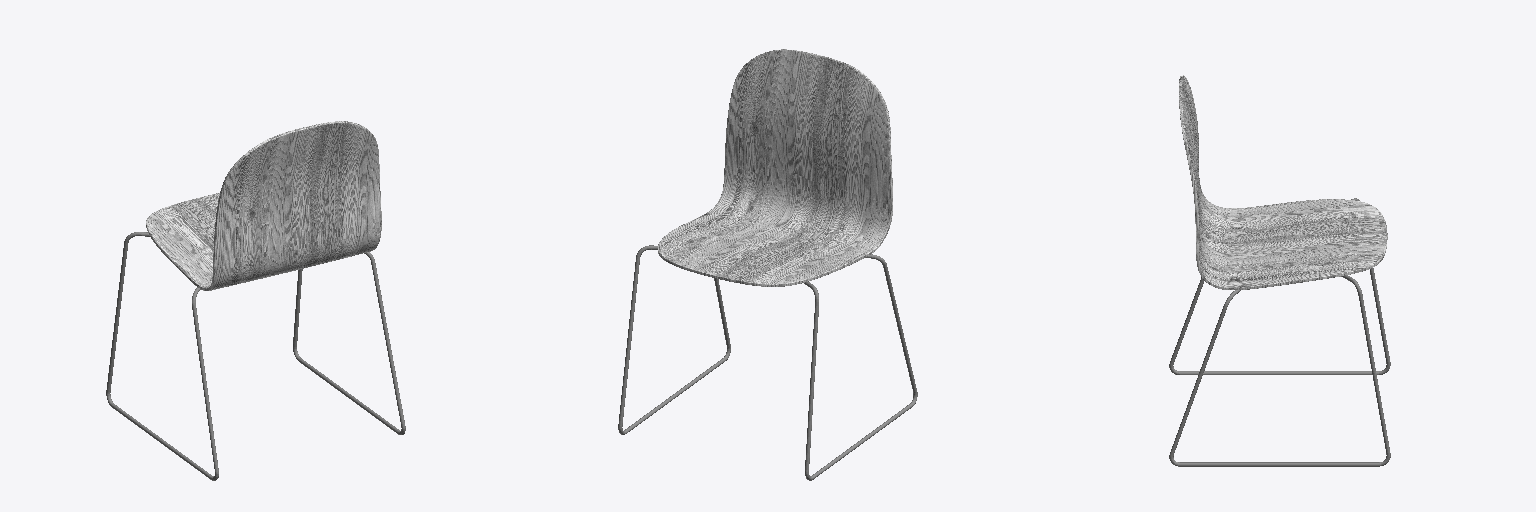
The picture shows the model from 3 angles: view 1: azimuth 30°, elevation 25°; view 2: azimuth 150°, elevation 25°; view 3: azimuth 270°, elevation 25°; orthographic projection.
Parts seen in each view (by area): view 1: Obj3d66_478477_3_156, Obj3d66_478477_4_454; view 2: Obj3d66_478477_3_156, Obj3d66_478477_4_454; view 3: Obj3d66_478477_3_156, Obj3d66_478477_4_454.
Part boxes in pixels (left/top/right/bottom): Obj3d66_478477_3_156: left=146, top=121, right=381, bottom=290; Obj3d66_478477_4_454: left=106, top=232, right=405, bottom=480; Obj3d66_478477_3_156: left=658, top=49, right=892, bottom=286; Obj3d66_478477_4_454: left=618, top=245, right=917, bottom=480; Obj3d66_478477_3_156: left=1179, top=75, right=1387, bottom=289; Obj3d66_478477_4_454: left=1169, top=198, right=1390, bottom=466.
Bounding box in the file's own units: 19.25 × 31.82 × 19.37.
Materials: 1 (1 with a texture image).